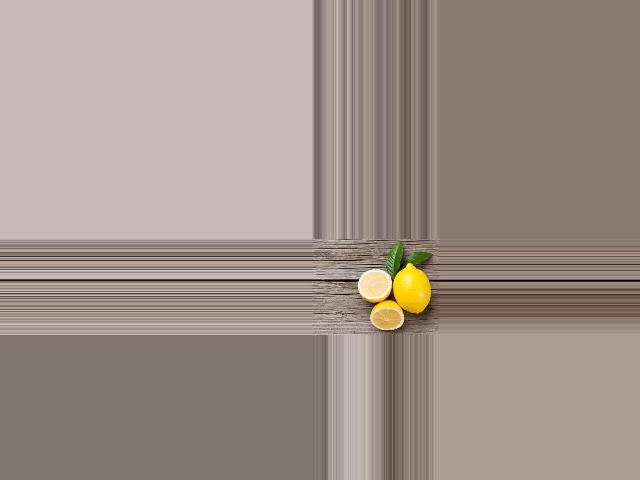lemon: (390, 259, 428, 313)
